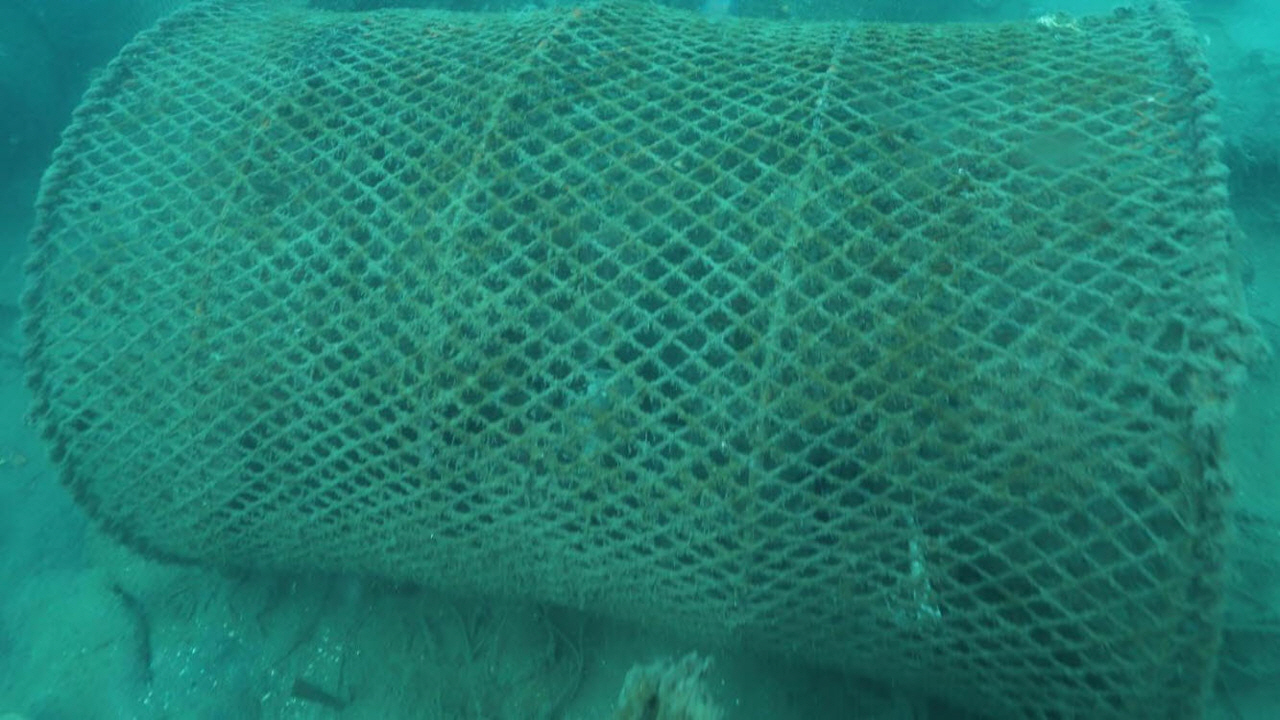spring fish trap: (14, 0, 1247, 720)
